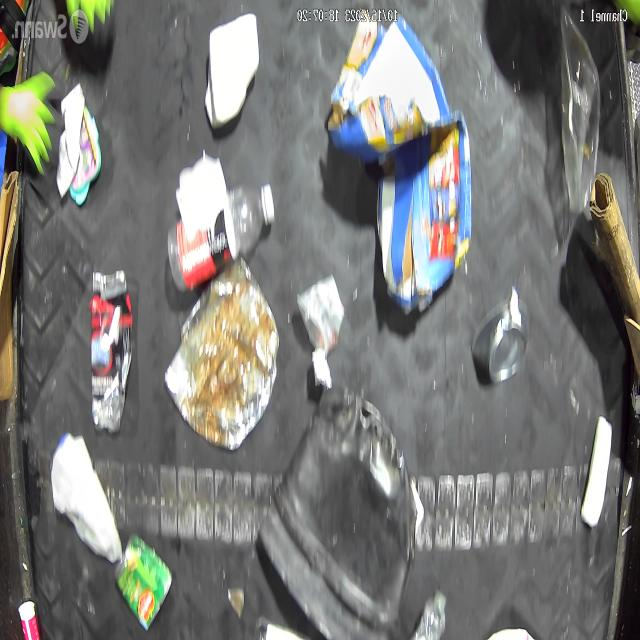can: (473, 299, 532, 384), (115, 534, 168, 628)
non_white_jug: (260, 386, 420, 640)
plastic_bottle: (170, 184, 277, 288)
